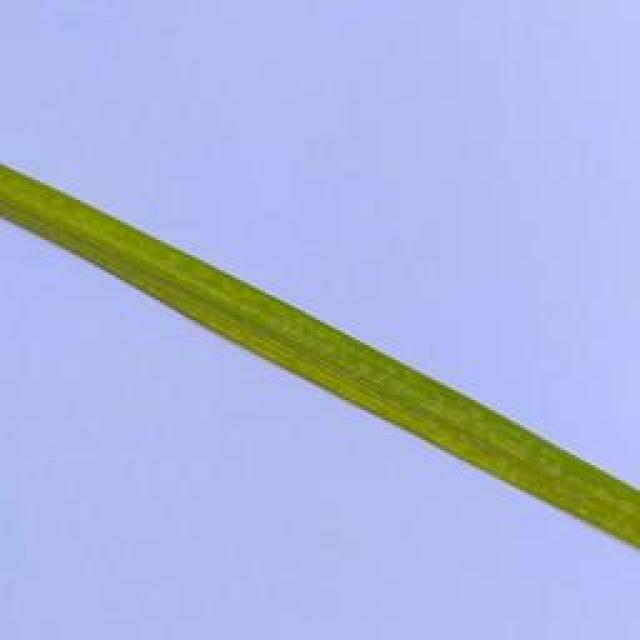Healthy-Plant: (0, 163, 640, 544)
